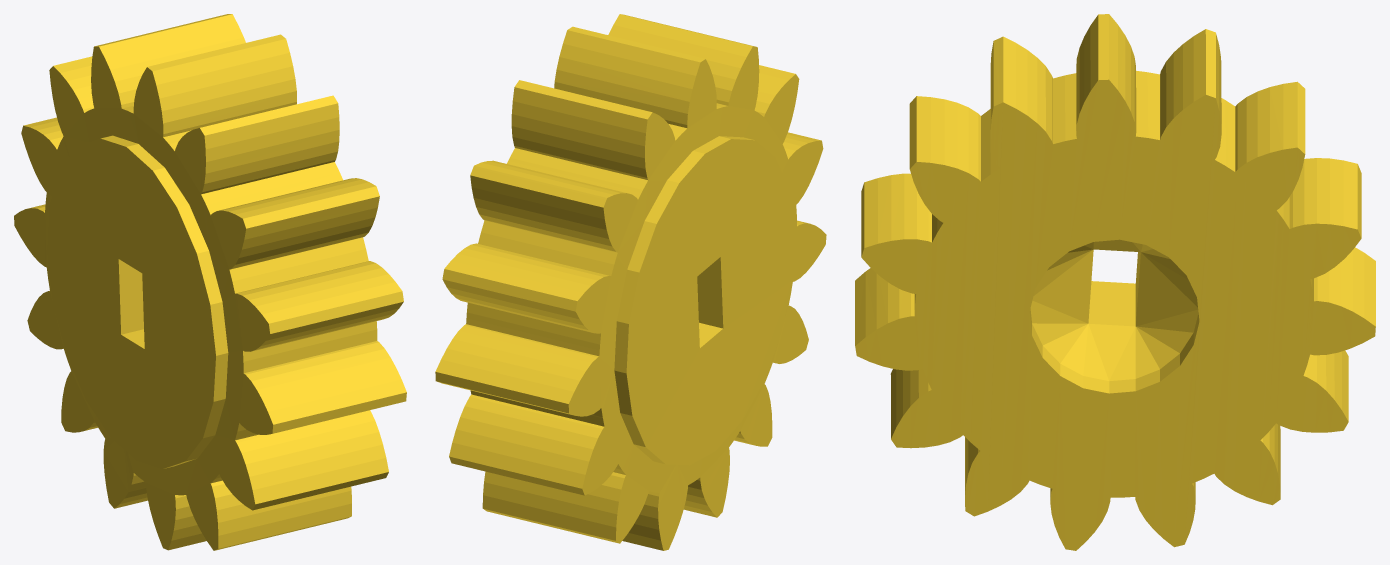
The model's file is right_shoulder_z_link_visual_9.obj.full.glb.
3 renders of one model, left to right at view 1: azimuth 30°, elevation 25°; view 2: azimuth 150°, elevation 25°; view 3: azimuth 270°, elevation 25°, orthographic.
Size of the model in its own units: 0.0675 by 0.2062 by 0.2064.
